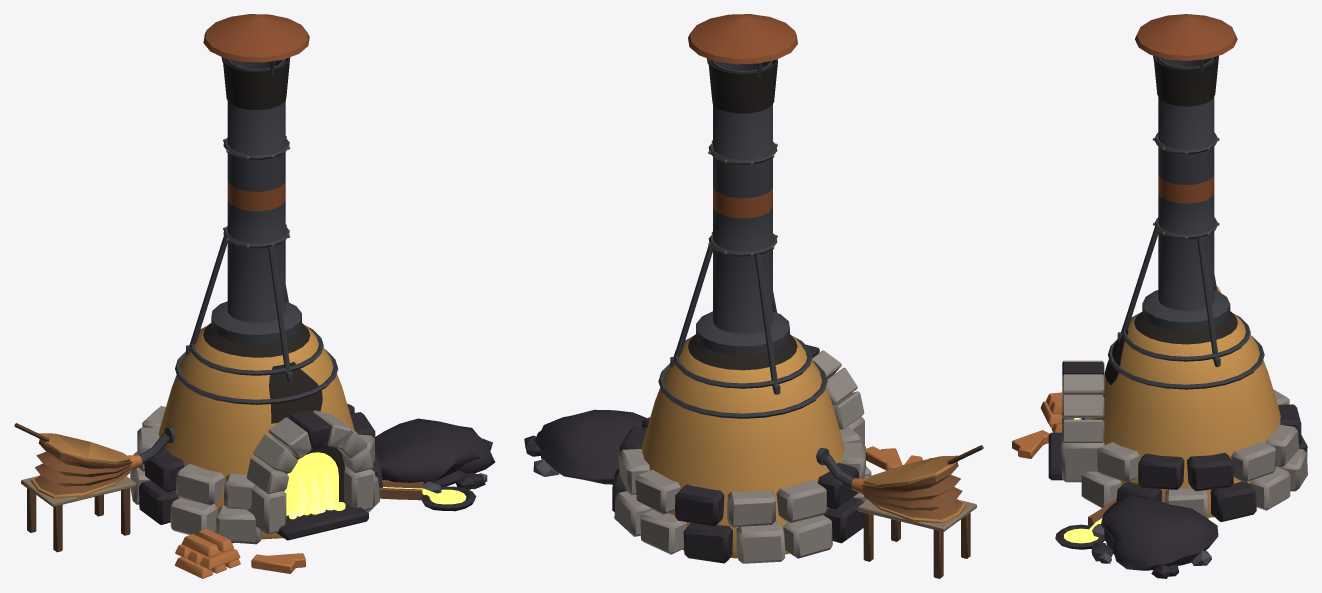
File: deco_smelter.fbx
3 views of the same model, side by side, from view 1: azimuth 30°, elevation 25°; view 2: azimuth 150°, elevation 25°; view 3: azimuth 270°, elevation 25° (orthographic). The views are drawn at different scales.
Parts seen in each view (by area): view 1: Smelter_Furnace, Smelter_Chimney, Smelter_Slag, Smelter_Bellows, Smelter_Ingots, Smelter_Glow; view 2: Smelter_Furnace, Smelter_Chimney, Smelter_Bellows, Smelter_Slag, Smelter_Ingots; view 3: Smelter_Furnace, Smelter_Chimney, Smelter_Slag, Smelter_Ingots.
Boxes of the visible parts, x1,y1,x2,y2 form: Smelter_Furnace: (130,323,382,544); Smelter_Chimney: (186,14,309,381); Smelter_Slag: (375,418,495,511); Smelter_Bellows: (14,423,175,552); Smelter_Ingots: (174,528,305,578); Smelter_Glow: (284,452,345,519); Smelter_Furnace: (612,334,871,563); Smelter_Chimney: (670,14,797,394); Smelter_Bellows: (816,445,983,578); Smelter_Slag: (524,409,646,484); Smelter_Ingots: (866,446,931,470); Smelter_Furnace: (1048,311,1307,522); Smelter_Chimney: (1117,14,1237,367); Smelter_Slag: (1055,495,1218,578); Smelter_Ingots: (1012,392,1062,458).
Bounding box in the file's own units: 545 × 541 × 316.
